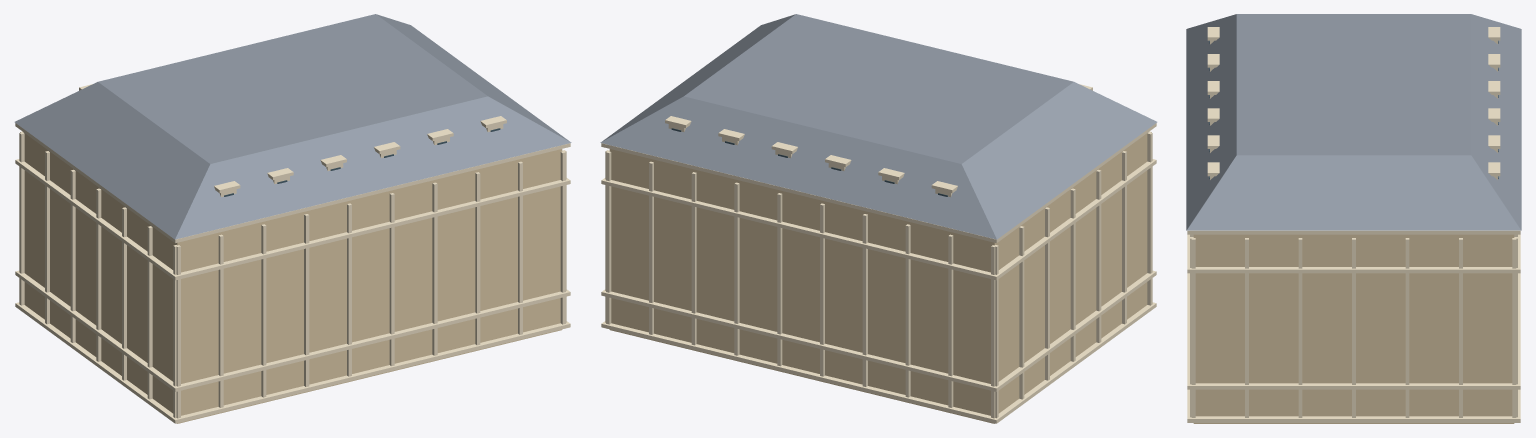
The model's file is heritage-3-lod0.glb.
The picture shows the model from 3 angles, left to right: view 1: azimuth 30°, elevation 25°; view 2: azimuth 150°, elevation 25°; view 3: azimuth 270°, elevation 25°; orthographic projection. The views are drawn at different scales.
Parts seen in each view (by area): view 1: heritage-3_architecture; view 2: heritage-3_architecture; view 3: heritage-3_architecture.
Boxes of the visible parts, left/top/right/bottom form: heritage-3_architecture: left=14, top=14, right=571, bottom=423; heritage-3_architecture: left=600, top=14, right=1157, bottom=423; heritage-3_architecture: left=1186, top=14, right=1521, bottom=423.
Size of the model in its own units: 26.8 by 14.95 by 18.8.
